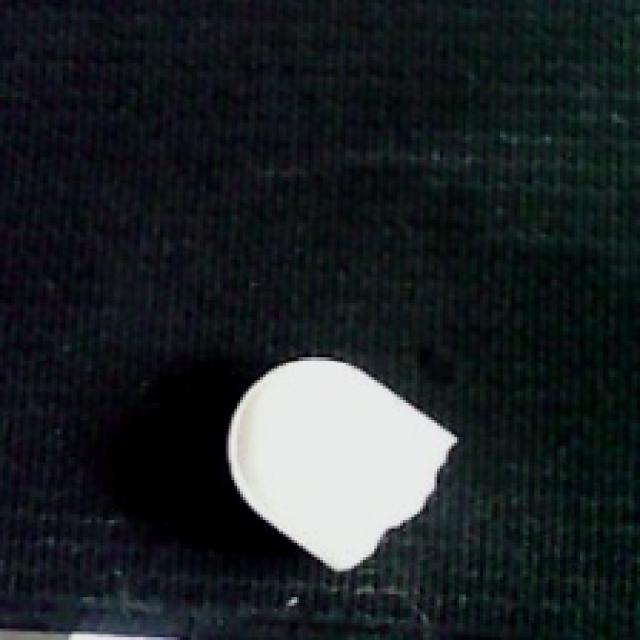defected: (214, 349, 469, 580)
